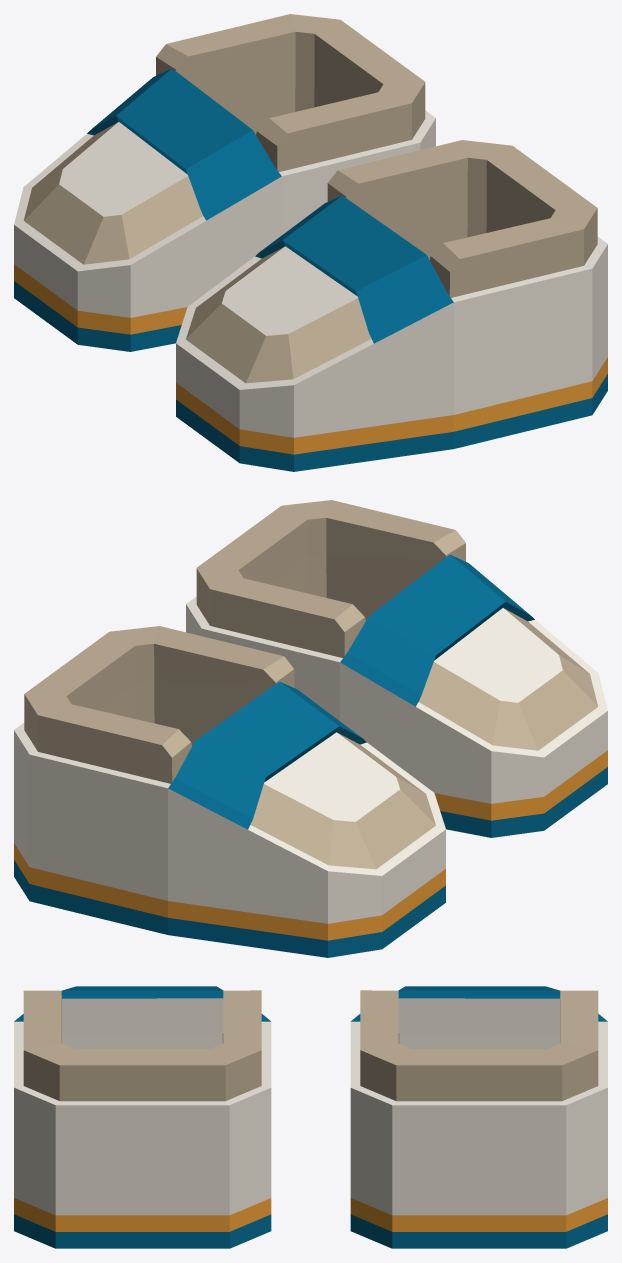
The model's file is G01_008_Shoes.fbx.
3 views of the same model, one above another, from view 1: azimuth 30°, elevation 25°; view 2: azimuth 150°, elevation 25°; view 3: azimuth 270°, elevation 25° (orthographic). The views are drawn at different scales.
Visible parts, largest first — view 1: 立方体.065; view 2: 立方体.065; view 3: 立方体.065.
Part boxes in pixels (x1,y1,x2,y2): 立方体.065: (14,14,607,471); 立方体.065: (14,500,607,957); 立方体.065: (14,986,607,1248).
Size of the model in its own units: 100 by 50.38 by 150.
